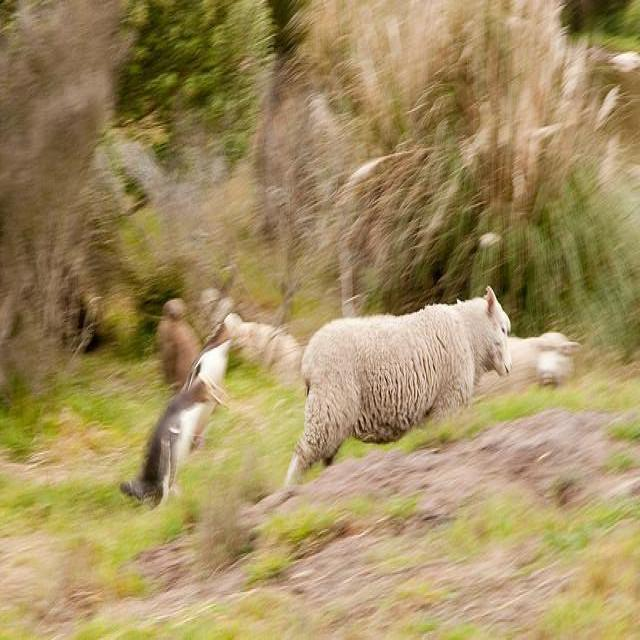Sheep: (284, 283, 516, 484), (474, 331, 583, 396), (213, 314, 311, 384)
